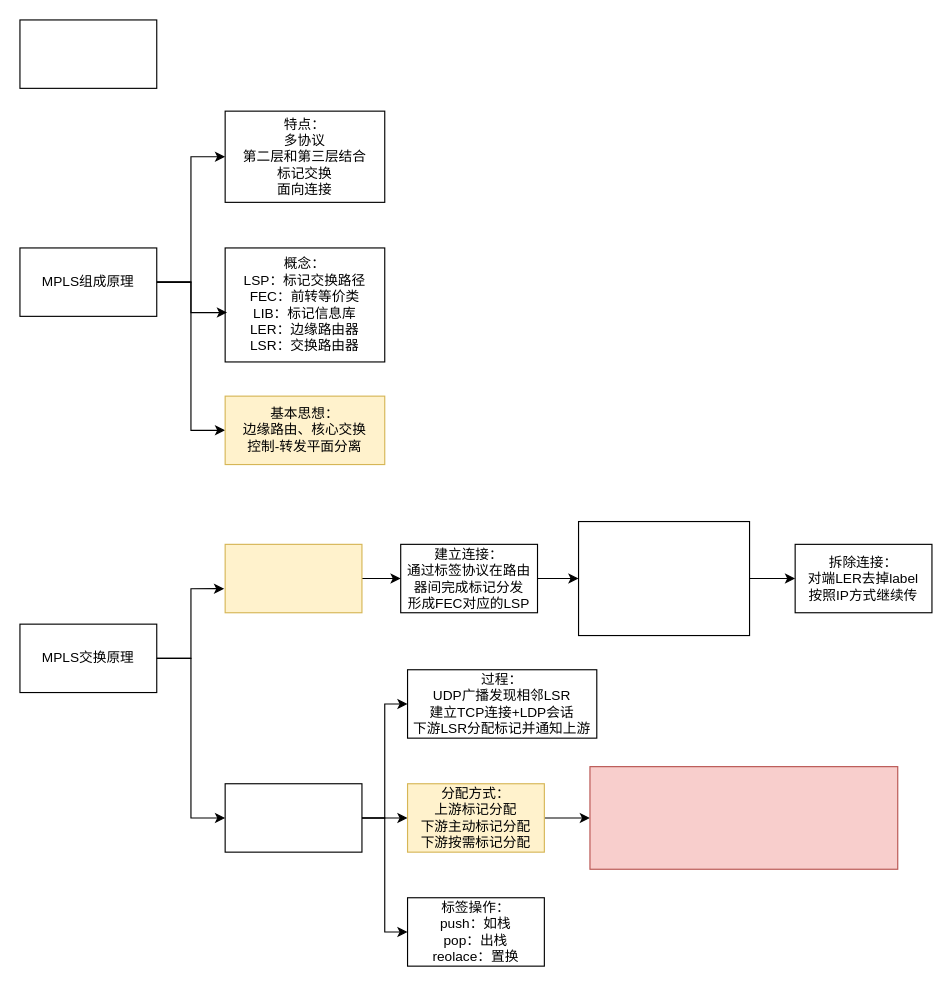
Image size: 952x986. Some labels were removed from this diagram. The shapes that lost their labels are listed below. From the top down, each one's box as (x1, y1, x2, y2) in pixels, then its label:
(19, 19, 157, 88): 路由器的交换结构： 高端路由器CLOS结构
(224, 543, 362, 613): 流程：
(577, 520, 750, 636): 数据传输： LER接受分组，判断FEC 插入下一跳label并发送 LSR根据label和转发表来进行标记置换
(224, 783, 362, 852): LDP 普通标记分配协议
(589, 766, 898, 869): 下游按需分配流程： 上游根据路由请求下游 下游分配标记并发回给上游 发送沿途所有路由器修改路由表 来了一个包就会按照路由表转发置换标签
